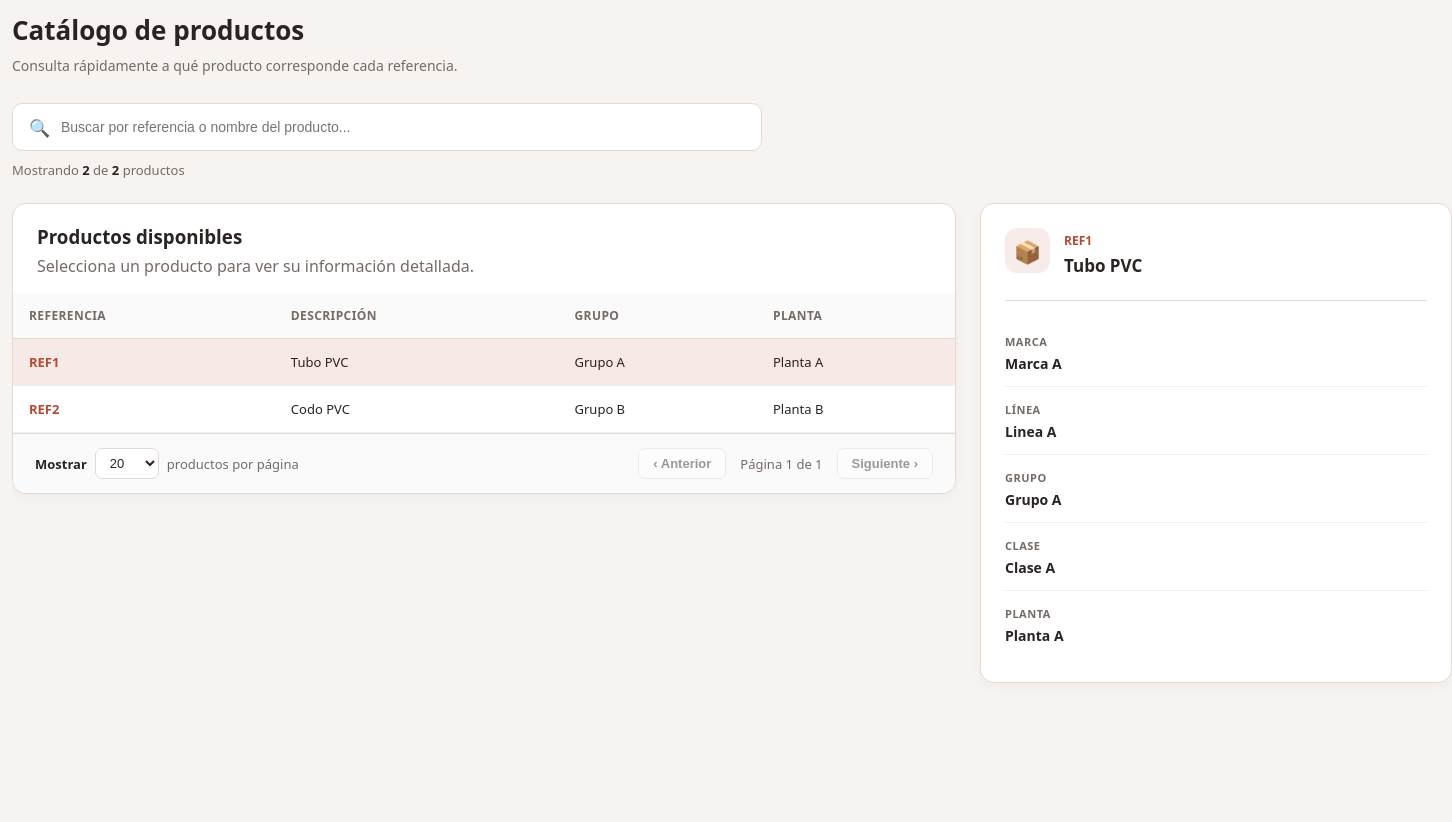
Test: Productos › al hacer clic en una fila, muestra el detalle de ese producto
Click the text "Codo PVC": (417, 409) top-left (275, 386), bottom-right (558, 432)
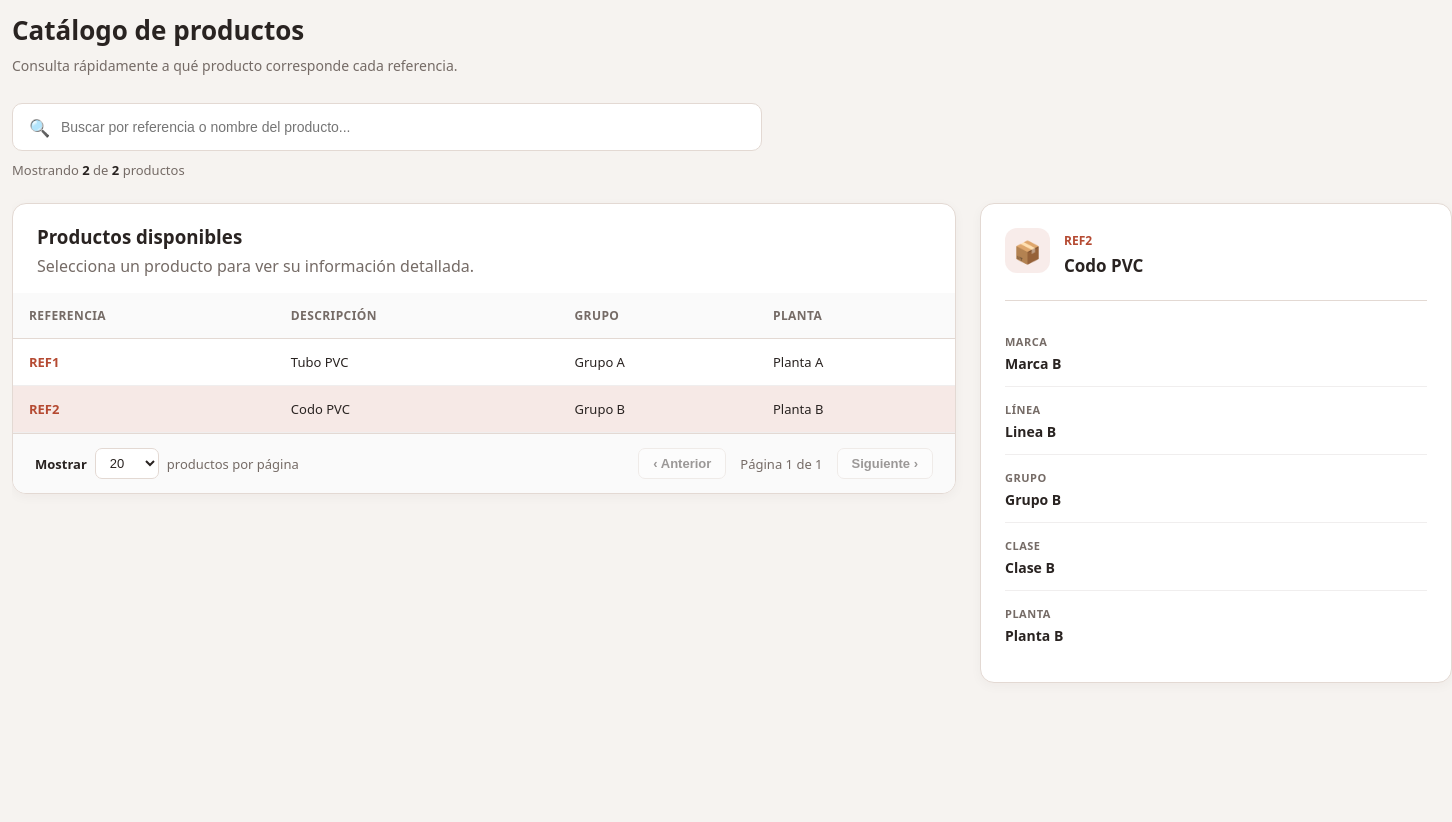
Expected: the heading "Codo PVC" is shown, top-left (1064, 255), bottom-right (1144, 278)
